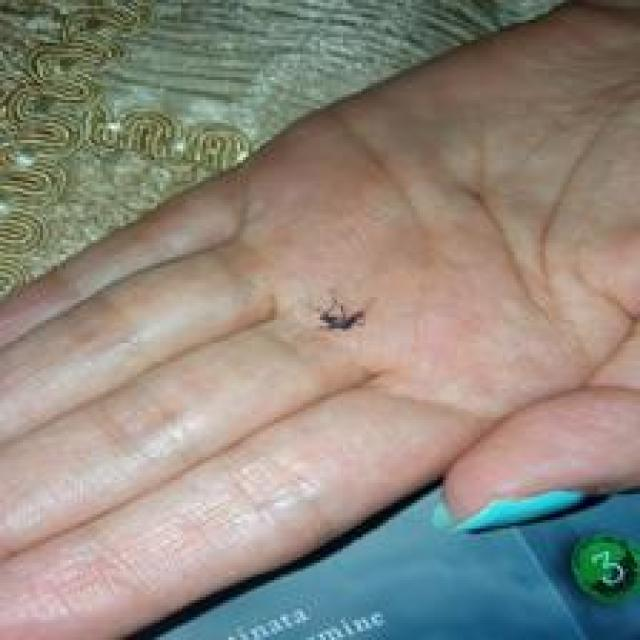Aedes albopictus: (568, 529, 640, 604)
